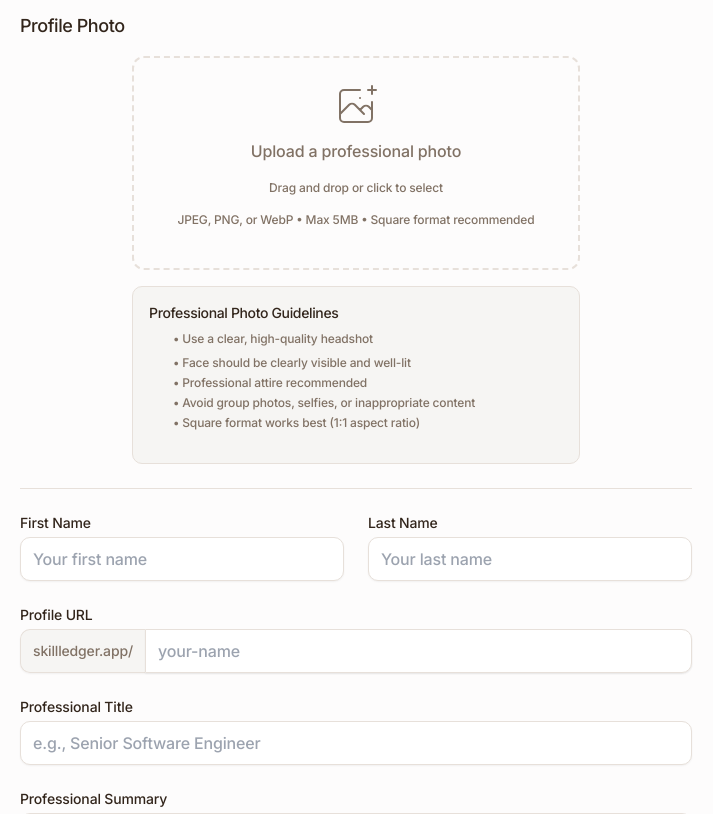
Test: EnhancedProfileCreationForm › Slug Auto-Generation › should auto-generate slug from first and last name
The image size is (713, 814).
Type "John" into the field labelled "First Name" at (182, 559), box [20,537,344,581]
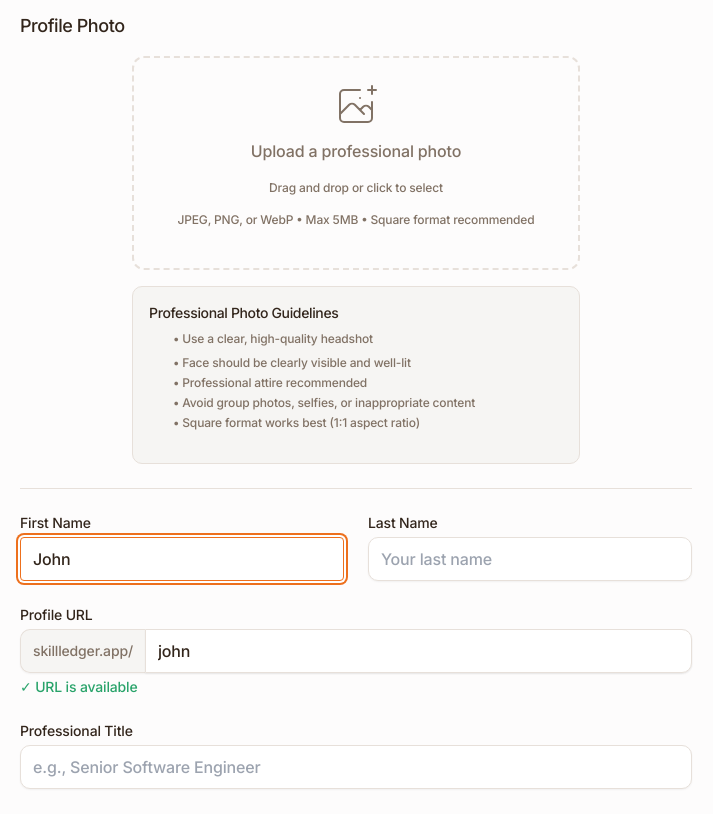
Type "Doe" into the field labelled "Last Name" at (530, 559), box [368,537,692,581]
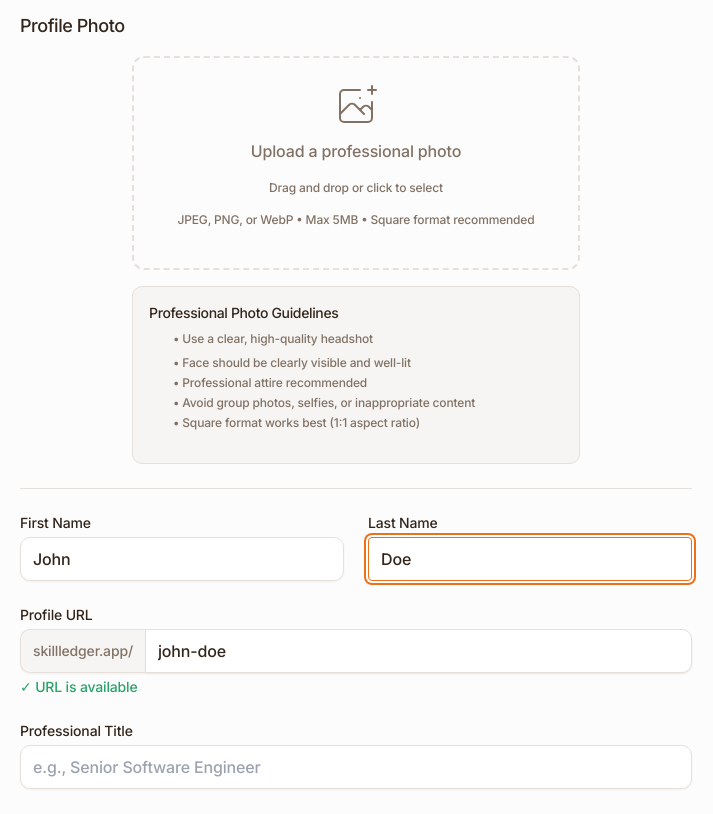
Check: the field labelled "Profile URL" holds "john-doe", box [145,629,692,673]
